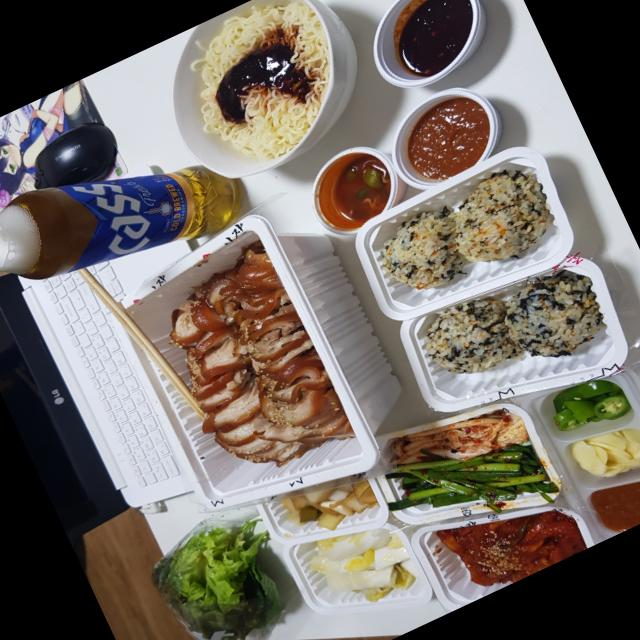glass bottle: (0, 162, 249, 282)
plastic-bowl: (106, 208, 409, 515), (395, 252, 632, 412), (371, 396, 570, 525), (511, 363, 640, 543), (402, 500, 599, 611), (275, 520, 441, 613), (251, 468, 395, 549), (389, 83, 498, 189), (299, 142, 403, 243), (371, 0, 480, 89)
wooden chopsticks: (76, 267, 207, 420)
